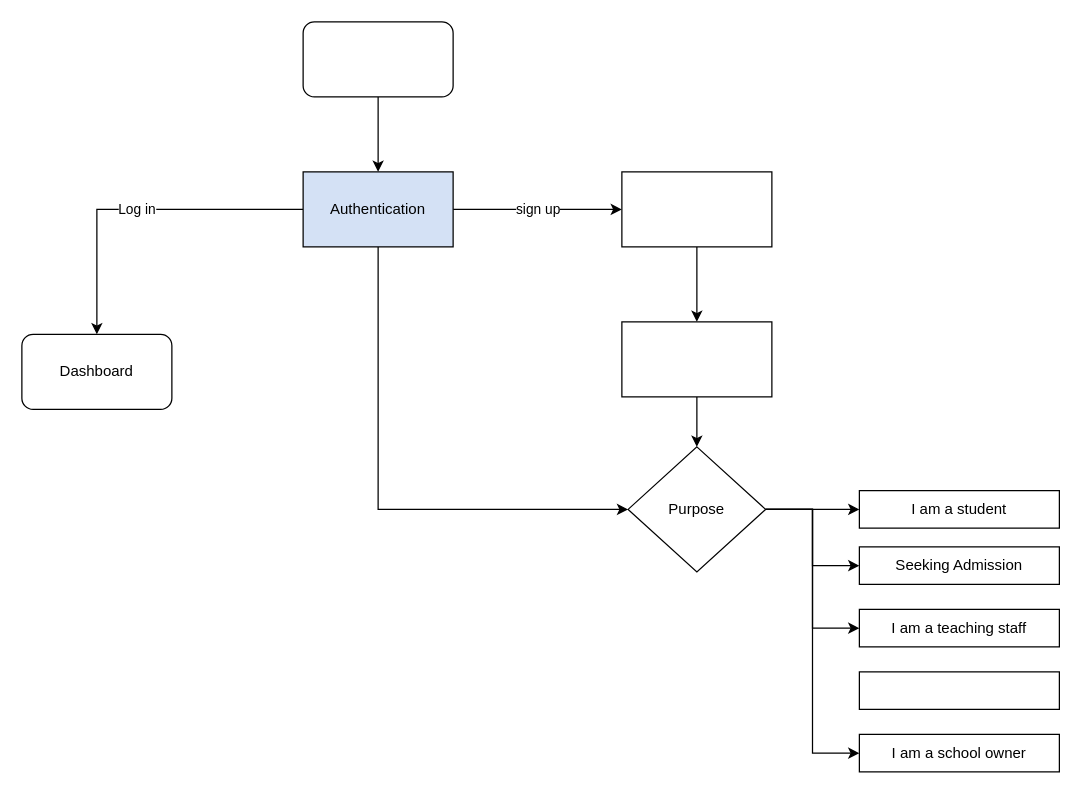
This 1081x794 diagram has some shape labels left out. Here are the shapes that lost their labels. From the top down, the centre of each, then its label:
At pixel 377 59: "Home".
At pixel 696 209: "Using 0Auth".
At pixel 696 359: "Create User Profile (fill & submit form)".
At pixel 958 690: "I am a non-teaching staff".
